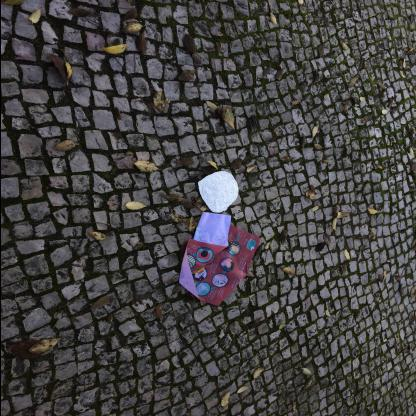kagit: (179, 213, 261, 307)
metal: (197, 172, 239, 214)
